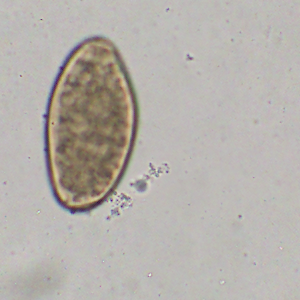Fasciola_hepatica_egg: (42, 34, 141, 213)
